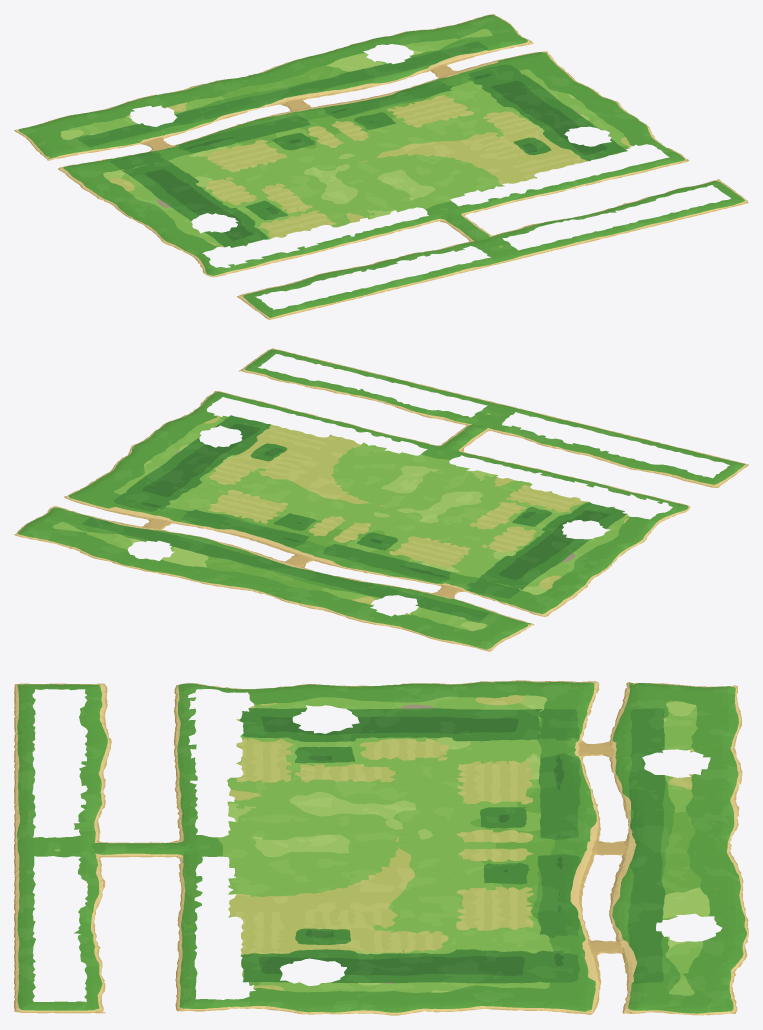
The model's file is Map-M2-Ground.fbx.
The picture shows the model from 3 angles, top to bottom: view 1: azimuth 30°, elevation 25°; view 2: azimuth 150°, elevation 25°; view 3: azimuth 270°, elevation 25°; orthographic projection. The views are drawn at different scales.
Visible parts, largest first — view 1: Map-M2-Ground-c22, Map-M2-Ground-c12, Map-M2-Ground-c11, Map-M2-Ground-c21, Map-M2-Ground-c02, Map-M2-Ground-c32, Map-M2-Ground-c23, Map-M2-Ground-c13, Map-M2-Ground-c01, Map-M2-Ground-c31, Map-M2-Ground-c20, Map-M2-Ground-c10 (+2 smaller); view 2: Map-M2-Ground-c22, Map-M2-Ground-c12, Map-M2-Ground-c11, Map-M2-Ground-c21, Map-M2-Ground-c02, Map-M2-Ground-c32, Map-M2-Ground-c23, Map-M2-Ground-c13, Map-M2-Ground-c01, Map-M2-Ground-c31, Map-M2-Ground-c10, Map-M2-Ground-c20 (+2 smaller); view 3: Map-M2-Ground-c22, Map-M2-Ground-c12, Map-M2-Ground-c21, Map-M2-Ground-c11, Map-M2-Ground-c32, Map-M2-Ground-c02, Map-M2-Ground-c23, Map-M2-Ground-c13, Map-M2-Ground-c31, Map-M2-Ground-c01, Map-M2-Ground-c20, Map-M2-Ground-c10 (+4 smaller).
Part boxes in pixels (x1,y1,x2,y2): Map-M2-Ground-c22: [270, 34, 584, 167]; Map-M2-Ground-c12: [68, 83, 383, 215]; Map-M2-Ground-c11: [184, 168, 499, 290]; Map-M2-Ground-c21: [383, 118, 685, 252]; Map-M2-Ground-c02: [31, 132, 183, 227]; Map-M2-Ground-c32: [470, 25, 625, 118]; Map-M2-Ground-c23: [256, 25, 468, 82]; Map-M2-Ground-c13: [51, 74, 269, 131]; Map-M2-Ground-c01: [147, 216, 285, 312]; Map-M2-Ground-c31: [586, 110, 740, 196]; Map-M2-Ground-c20: [500, 206, 709, 261]; Map-M2-Ground-c10: [303, 253, 508, 310]; Map-M2-Ground-c22: [72, 446, 385, 579]; Map-M2-Ground-c12: [270, 496, 583, 628]; Map-M2-Ground-c11: [387, 411, 685, 543]; Map-M2-Ground-c21: [186, 374, 501, 495]; Map-M2-Ground-c02: [470, 544, 621, 638]; Map-M2-Ground-c32: [30, 438, 186, 530]; Map-M2-Ground-c23: [56, 531, 269, 592]; Map-M2-Ground-c13: [256, 579, 469, 643]; Map-M2-Ground-c01: [584, 466, 739, 554]; Map-M2-Ground-c31: [146, 354, 284, 446]; Map-M2-Ground-c10: [502, 406, 709, 457]; Map-M2-Ground-c20: [305, 357, 510, 410]; Map-M2-Ground-c22: [363, 845, 690, 986]; Map-M2-Ground-c12: [363, 708, 690, 848]; Map-M2-Ground-c21: [40, 845, 366, 984]; Map-M2-Ground-c11: [40, 708, 366, 846]; Map-M2-Ground-c32: [363, 982, 691, 1015]; Map-M2-Ground-c02: [364, 680, 689, 711]; Map-M2-Ground-c23: [687, 845, 748, 985]; Map-M2-Ground-c13: [687, 708, 742, 848]; Map-M2-Ground-c31: [39, 982, 366, 1014]; Map-M2-Ground-c01: [40, 683, 366, 711]; Map-M2-Ground-c20: [14, 845, 41, 985]; Map-M2-Ground-c10: [14, 709, 41, 847].
Size of the model in its own units: 122 by 0.4897 by 113.
